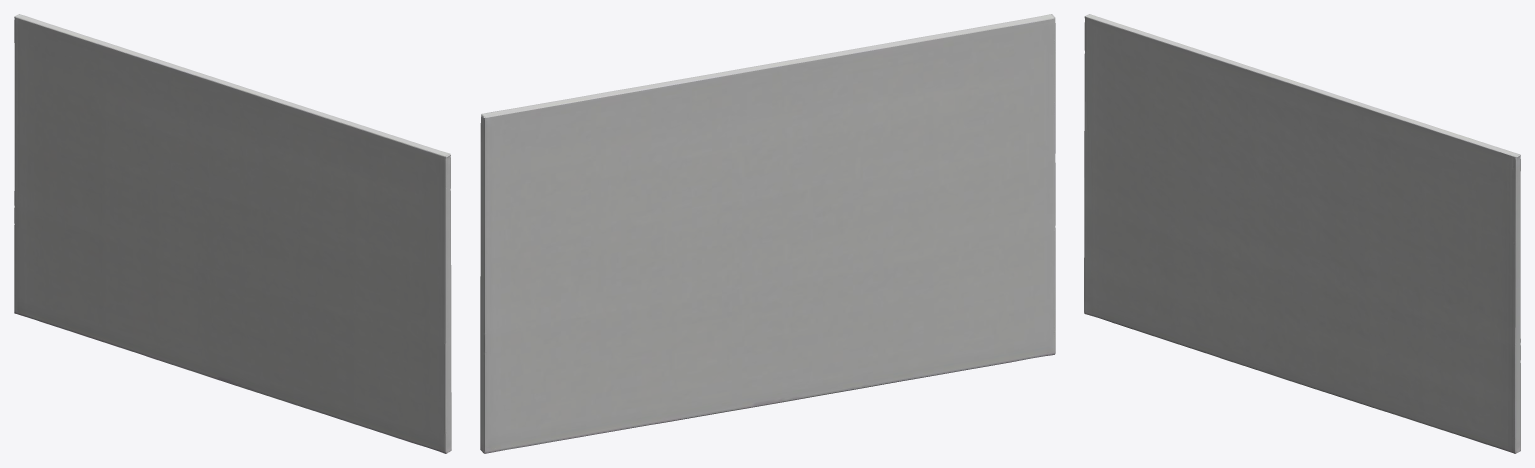
Rendered from white_whiteboard_on_wall_000.glb.
3 views of the same model, side by side, from view 1: azimuth 90°, elevation 25°; view 2: azimuth 150°, elevation 25°; view 3: azimuth 270°, elevation 25° (orthographic). The views are drawn at different scales.
Parts seen in each view (by area): view 1: phase2_final_white_whiteboard_on_wall_000.obj; view 2: phase2_final_white_whiteboard_on_wall_000.obj; view 3: phase2_final_white_whiteboard_on_wall_000.obj.
Boxes of the visible parts, left/top/right/bottom form: phase2_final_white_whiteboard_on_wall_000.obj: left=14, top=14, right=451, bottom=453; phase2_final_white_whiteboard_on_wall_000.obj: left=480, top=14, right=1055, bottom=453; phase2_final_white_whiteboard_on_wall_000.obj: left=1084, top=14, right=1520, bottom=453.
Bounding box in the file's own units: 0.7812 × 0.7563 × 1.
Materials: 1 (1 with a texture image).
